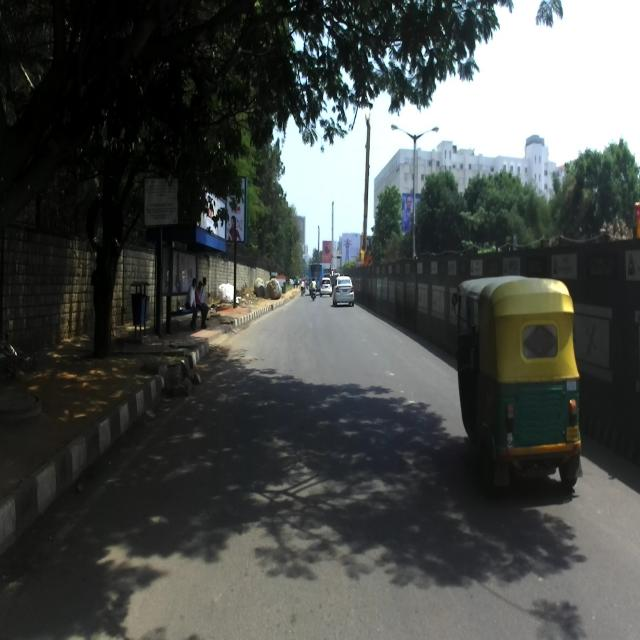autorickshaw: (451, 275, 583, 503)
car: (332, 275, 354, 306), (319, 276, 332, 296)
